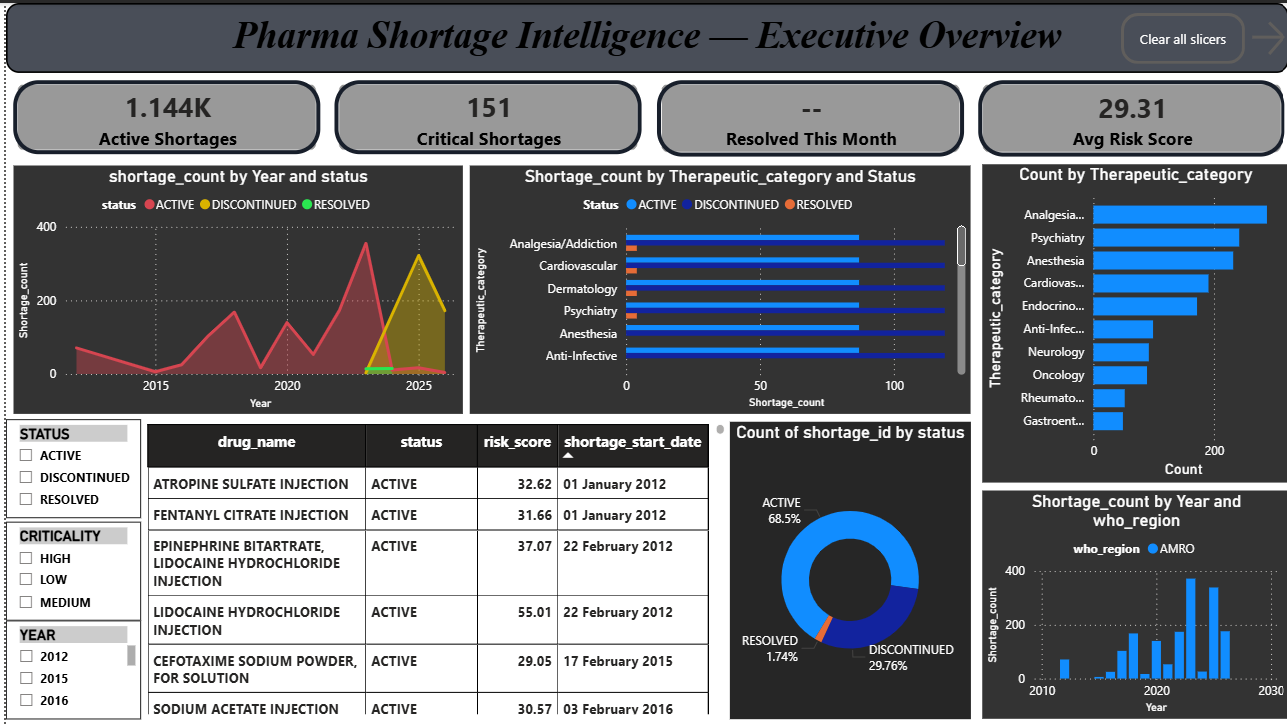

The dashboard page shown, as its layout file describes it:
{"tool":"powerbi","page":{"name":"Executive Overview","canvas":[1280,720],"ordinal":0},"visuals":[{"type":"textbox","box":[0,0,1277.5,70],"z":0},{"type":"cardVisual","fields":{"Data":["measure dax.Active Shortages"]},"box":[0,70,320,88.8],"z":1000},{"type":"cardVisual","fields":{"Data":["measure dax.Critical Shortages"]},"box":[320,70,320,88.8],"z":2000},{"type":"cardVisual","fields":{"Data":["measure dax.Resolved This Month"]},"box":[641.2,70,320,90],"z":3000},{"type":"cardVisual","fields":{"Data":["measure dax.Avg Risk Score"]},"box":[960,70,320,90],"z":4000},{"type":"areaChart","title":"shortage_count by Year and status","fields":{"Category":["analytics vw_monthly_trends.month.Variation.Date Hierarchy.Year","analytics vw_monthly_trends.month.Variation.Date Hierarchy.Quarter","analytics vw_monthly_trends.month.Variation.Date Hierarchy.Month","analytics vw_monthly_trends.month.Variation.Date Hierarchy.Day"],"Y":["Sum(analytics vw_monthly_trends.shortage_count)"],"Series":["analytics vw_monthly_trends.status"]},"box":[7.5,161.2,447.5,247.5],"z":5000},{"type":"donutChart","fields":{"Category":["analytics vw_shortage_main.status"],"Y":["CountNonNull(analytics vw_shortage_main.shortage_id)"]},"box":[720,417.1,240,295.7],"z":6000},{"type":"clusteredBarChart","fields":{"Category":["analytics vw_shortage_main.therapeutic_category"],"Y":["CountNonNull(analytics vw_shortage_main.shortage_id)"]},"box":[971.4,160,305.7,317.1],"z":7000},{"type":"clusteredBarChart","fields":{"Category":["analytics vw_shortage_main.therapeutic_category"],"Y":["CountNonNull(analytics vw_monthly_trends.shortage_count)"],"Series":["analytics vw_shortage_main.status"]},"box":[461.4,161.4,498.6,247.1],"z":8000},{"type":"columnChart","fields":{"Category":["analytics vw_monthly_trends.month.Variation.Date Hierarchy.Year","analytics vw_monthly_trends.month.Variation.Date Hierarchy.Quarter","analytics vw_monthly_trends.month.Variation.Date Hierarchy.Month","analytics vw_monthly_trends.month.Variation.Date Hierarchy.Day"],"Y":["Sum(analytics vw_monthly_trends.shortage_count)"],"Series":["analytics vw_monthly_trends.who_region"]},"box":[971.4,485.7,307.1,227.1],"z":9000},{"type":"tableEx","fields":{"Values":["analytics vw_drug_risk.drug_name","analytics vw_monthly_trends.status","analytics vw_drug_risk.risk_score","analytics vw_shortage_main.shortage_start_date"]},"box":[134.3,414.3,585.7,298.6],"z":10000},{"type":"slicer","fields":{"Values":["analytics vw_shortage_main.criticality_tier"]},"box":[0,515.7,134.3,98.6],"z":11000},{"type":"slicer","fields":{"Values":["analytics vw_shortage_main.status"]},"box":[0,414.3,134.3,98.6],"z":12000},{"type":"slicer","fields":{"Values":["analytics vw_monthly_trends.year"]},"box":[0,614.3,134.3,98.6],"z":13000},{"type":"actionButton","box":[1110.1,9.6,123.5,50.8],"z":14000},{"type":"actionButton","box":[1233.6,9.6,43.9,50.8],"z":15000}]}

Visuals, with their boxes in screenshot pixels (x1, y1, x2, y2), scaled from the page's 1280x720 canvas onto the 1287x725 screenshot:
textbox: 0,0,1284,70
cardVisual - measure dax.Active Shortages: 0,70,322,160
cardVisual - measure dax.Critical Shortages: 322,70,644,160
cardVisual - measure dax.Resolved This Month: 645,70,966,161
cardVisual - measure dax.Avg Risk Score: 965,70,1286,161
"shortage_count by Year and status" areaChart: 8,162,457,412
donutChart - analytics vw_shortage_main.status x CountNonNull(analytics vw_shortage_main.shortage_id): 724,420,965,718
clusteredBarChart - analytics vw_shortage_main.therapeutic_category x CountNonNull(analytics vw_shortage_main.shortage_id): 977,161,1284,480
clusteredBarChart - analytics vw_shortage_main.therapeutic_category x CountNonNull(analytics vw_monthly_trends.shortage_count): 464,163,965,411
columnChart - analytics vw_monthly_trends.month.Variation.Date Hierarchy.Year x analytics vw_monthly_trends.month.Variation.Date Hierarchy.Quarter: 977,489,1285,718
tableEx - analytics vw_drug_risk.drug_name x analytics vw_monthly_trends.status: 135,417,724,718
slicer - analytics vw_shortage_main.criticality_tier: 0,519,135,619
slicer - analytics vw_shortage_main.status: 0,417,135,516
slicer - analytics vw_monthly_trends.year: 0,619,135,718
actionButton: 1116,10,1240,61
actionButton: 1240,10,1284,61
